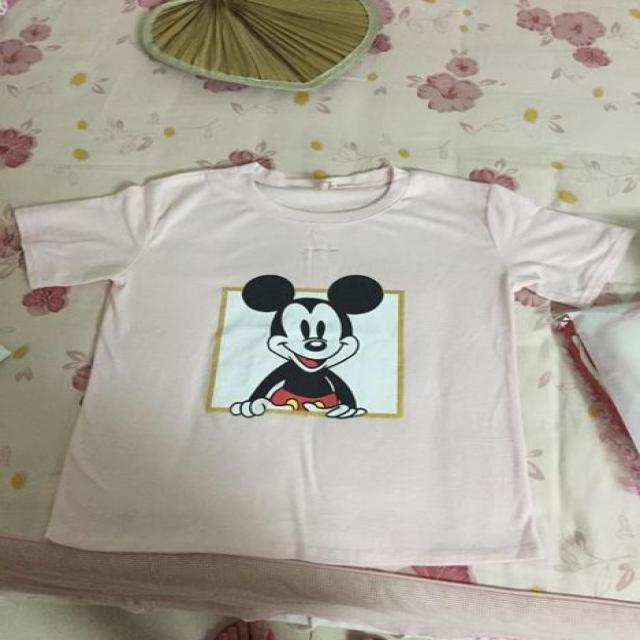short-sleeve-top: (0, 142, 615, 626)
